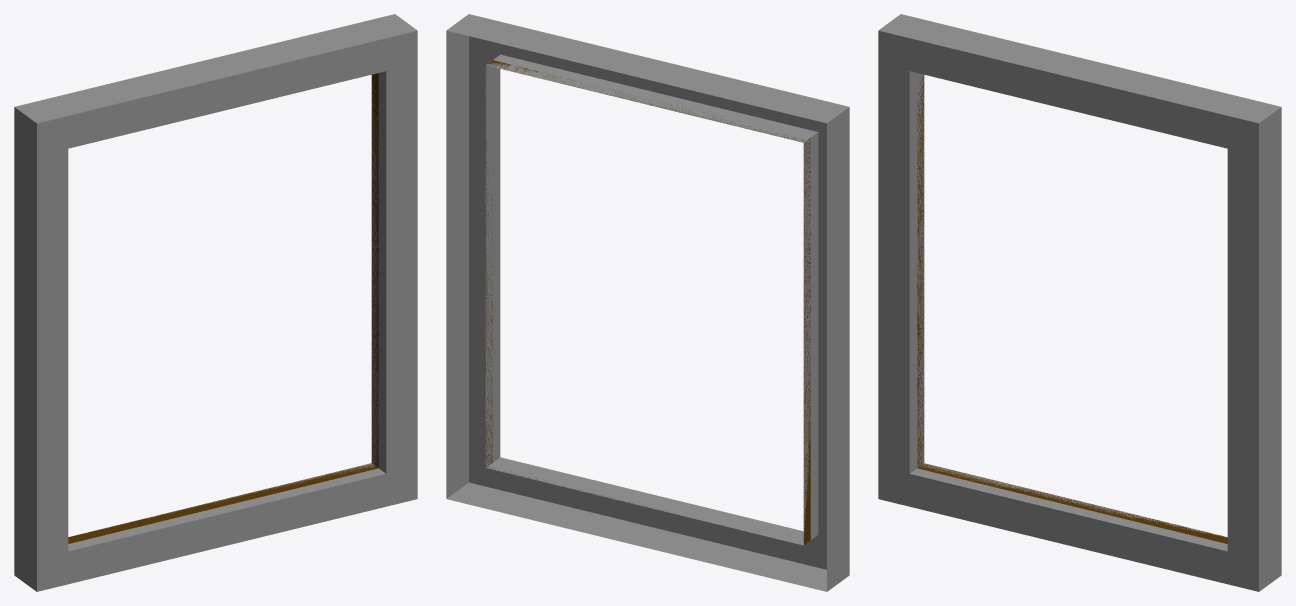
File: quadro1.FBX
The picture shows the model from 3 angles, left to right: view 1: azimuth 30°, elevation 25°; view 2: azimuth 150°, elevation 25°; view 3: azimuth 330°, elevation 25°; orthographic projection.
Parts seen in each view (by area): view 1: Box001; view 2: Box001; view 3: Box001.
Boxes of the visible parts, box(x1,y1,x2,y2) form: Box001: box(14, 14, 417, 591); Box001: box(446, 14, 849, 591); Box001: box(878, 14, 1281, 591).
Bounding box in the file's own units: 165 × 194 × 17.04.
